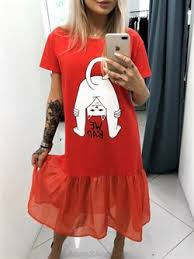cat: (84, 96, 110, 122)
